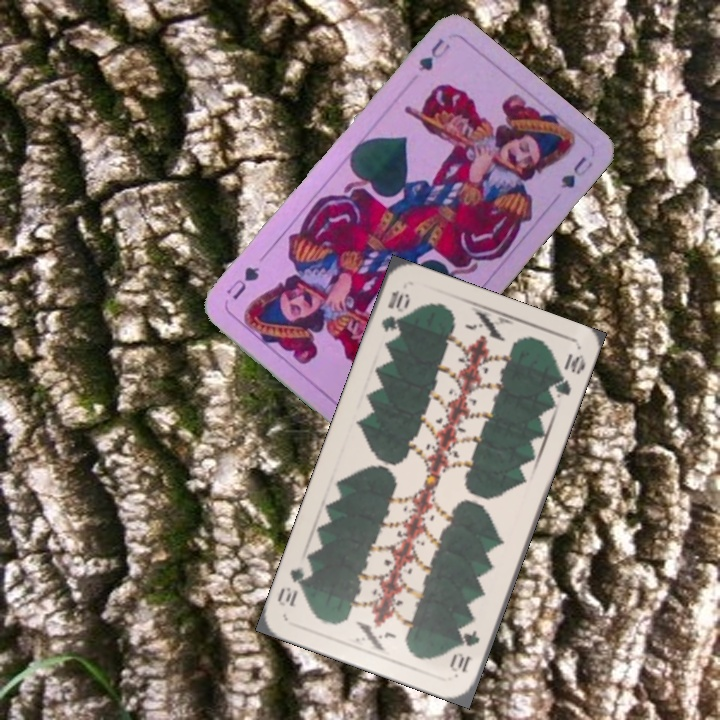G10: (446, 626, 483, 675), (377, 286, 413, 335)
GU: (414, 34, 453, 74)
